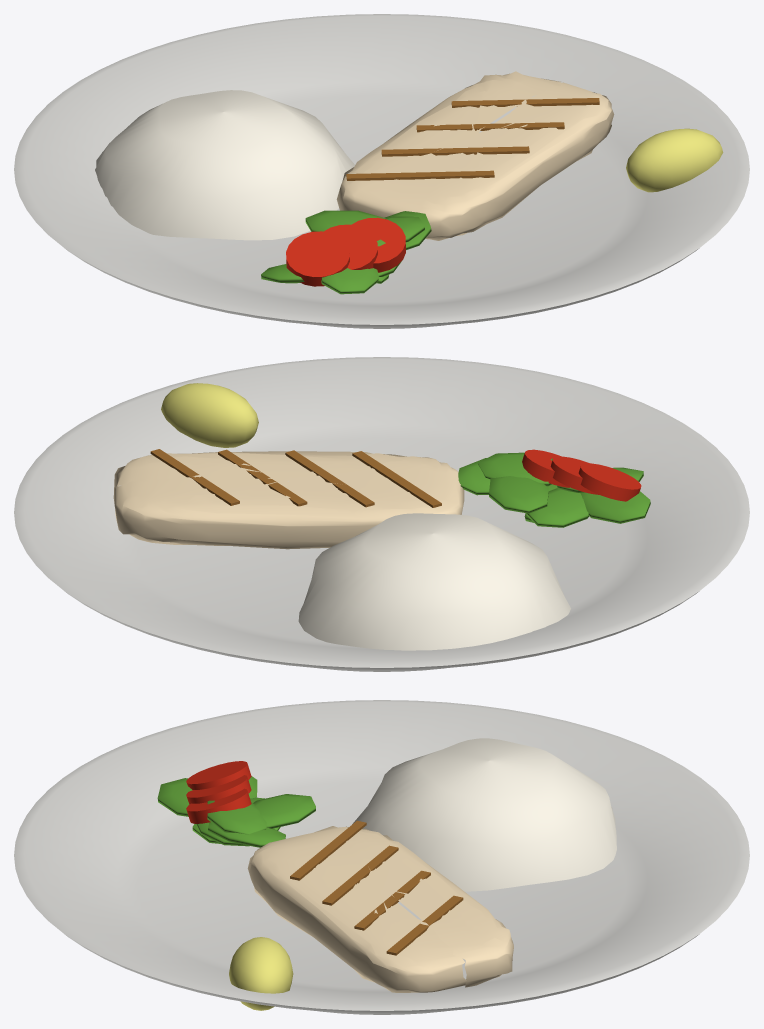
Rendered from prato-peixe.glb.
3 views of the same model, one above another, from view 1: azimuth 30°, elevation 25°; view 2: azimuth 150°, elevation 25°; view 3: azimuth 270°, elevation 25° (orthographic).
Visible parts, largest first — view 1: prato-peixe; view 2: prato-peixe; view 3: prato-peixe.
Boxes of the visible parts, left/top/right/bottom form: prato-peixe: left=14, top=14, right=749, bottom=328; prato-peixe: left=14, top=357, right=749, bottom=671; prato-peixe: left=14, top=700, right=749, bottom=1014.
Size of the model in its own units: 0.274 by 0.042 by 0.274.
